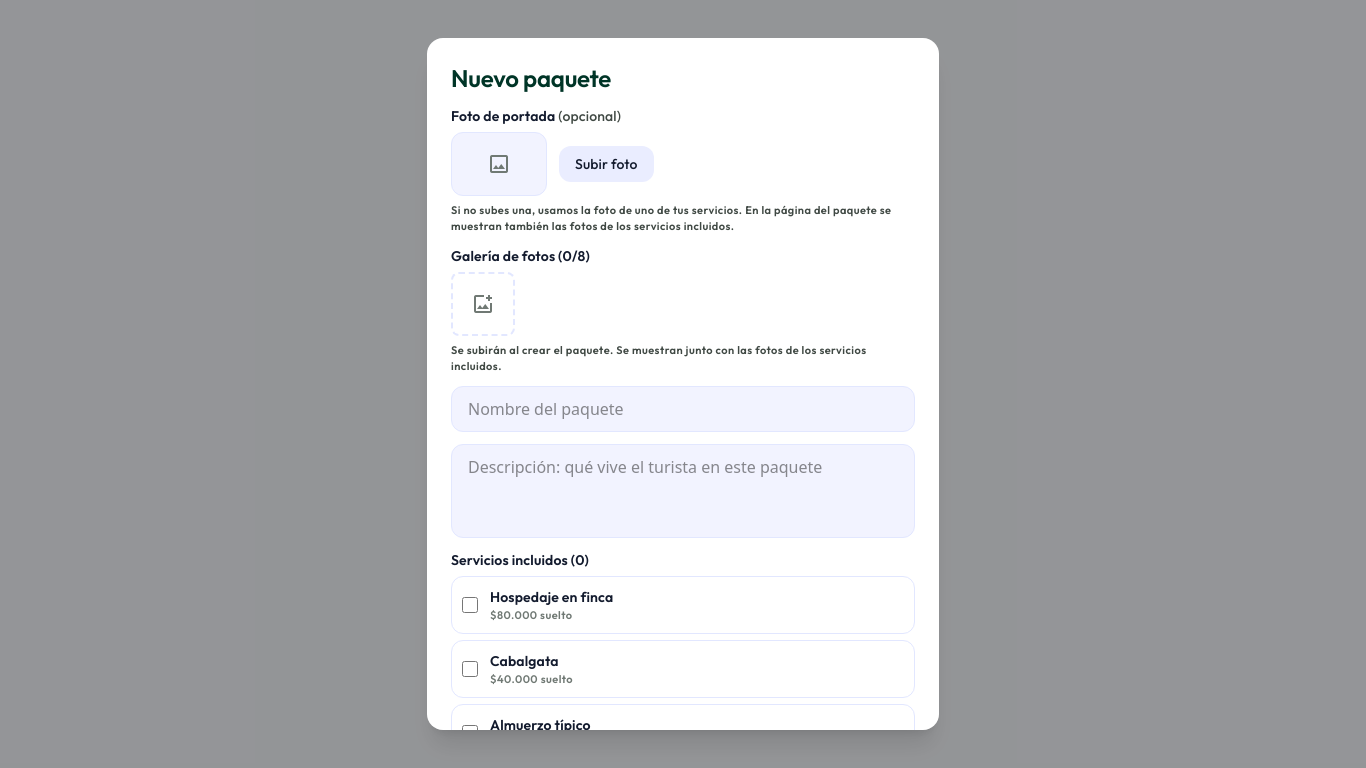
Test case: ModalPaquete › muestra el error del servidor
The image size is (1366, 768).
In the field with placeholder "Nombre del paquete": point(683, 409) [451,386,915,432], type "Paquete X"
(page scrolled)
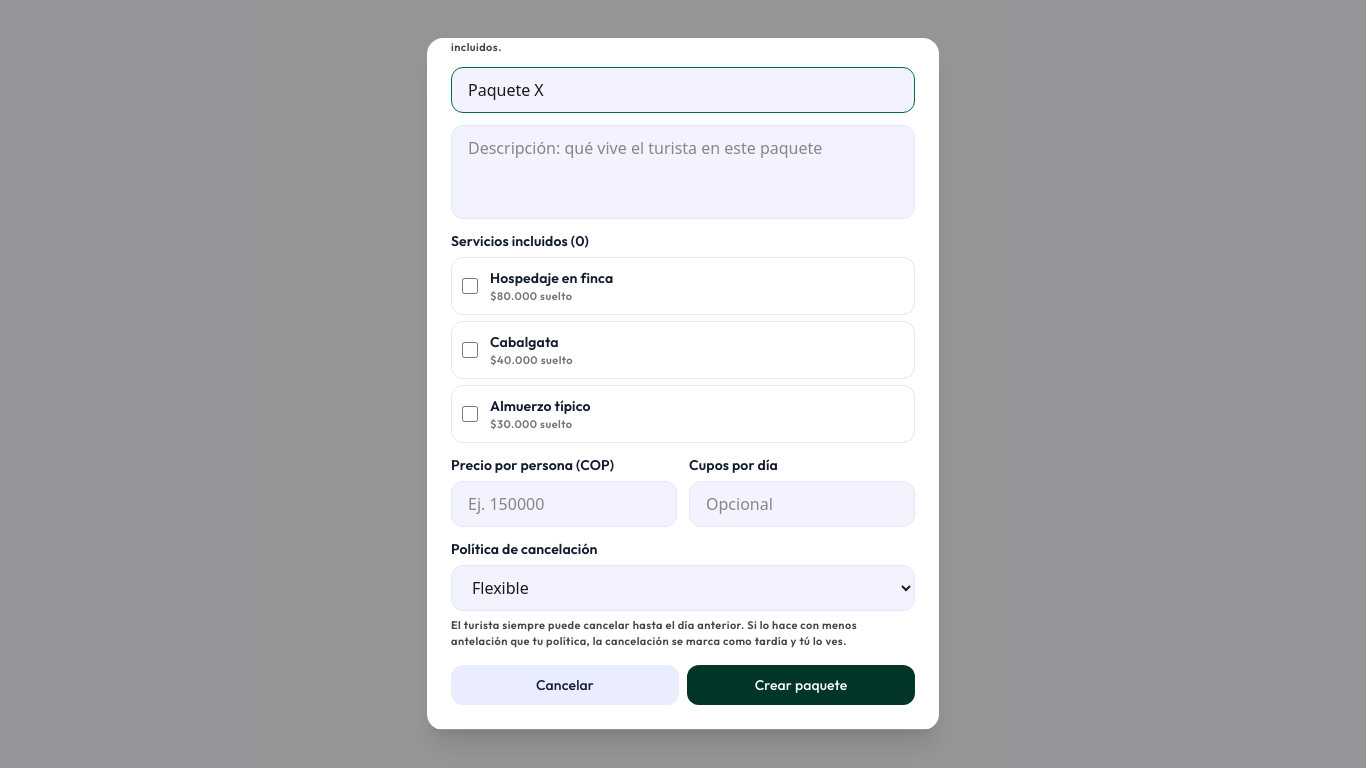
In the number field with placeholder "Ej. 150000": point(564, 504) [451,481,677,527], type "50000"
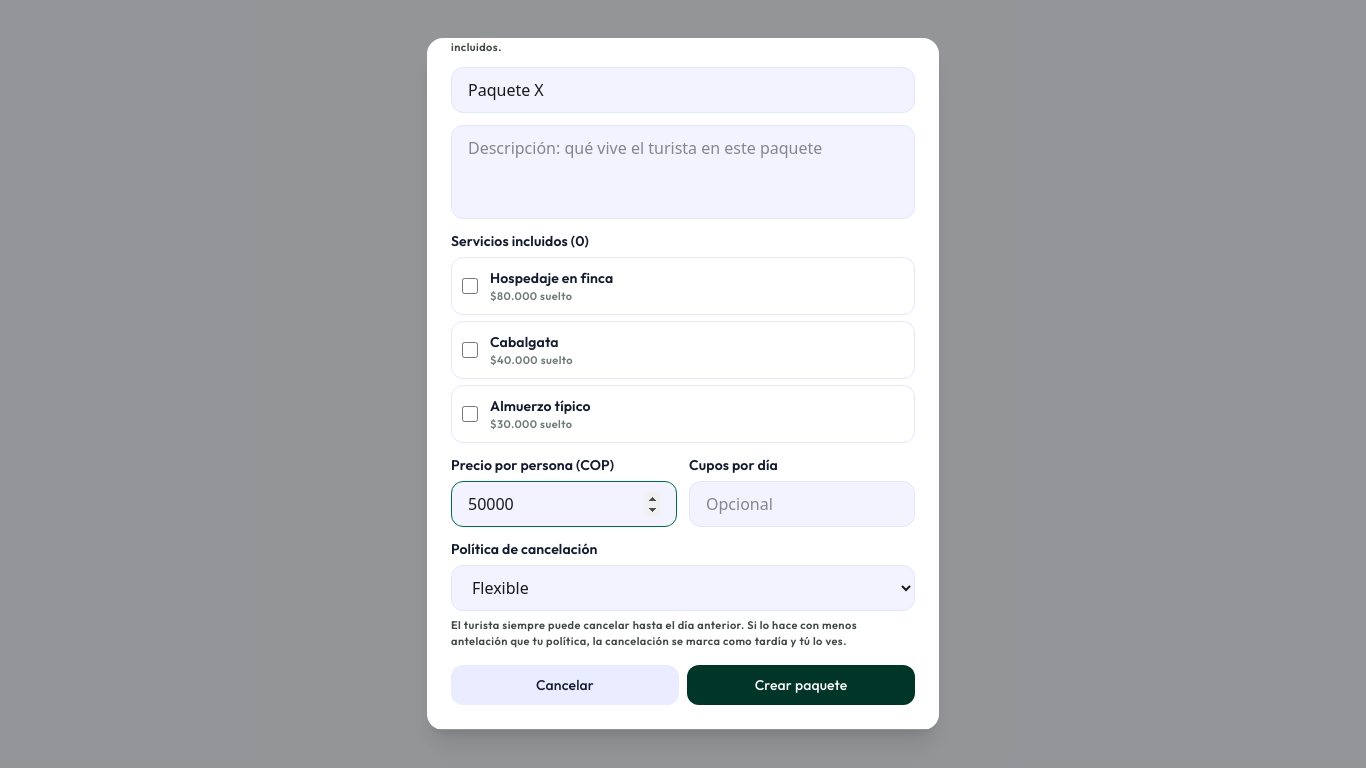
Click the checkbox labelled "Hospedaje en finca $80.000 suelto": point(470, 286) [462,278,478,294]
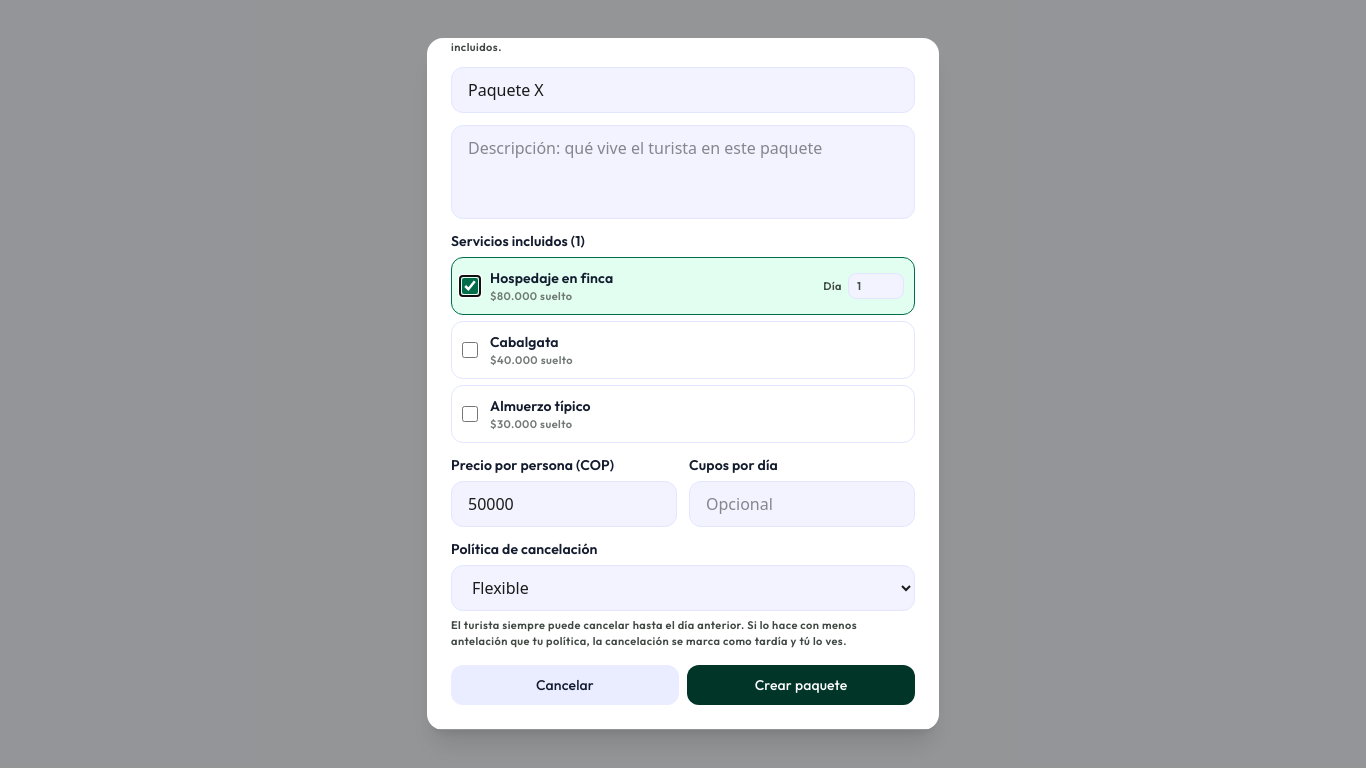
Click the checkbox labelled "Cabalgata $40.000 suelto": point(470, 350) [462,342,478,358]
(page scrolled)
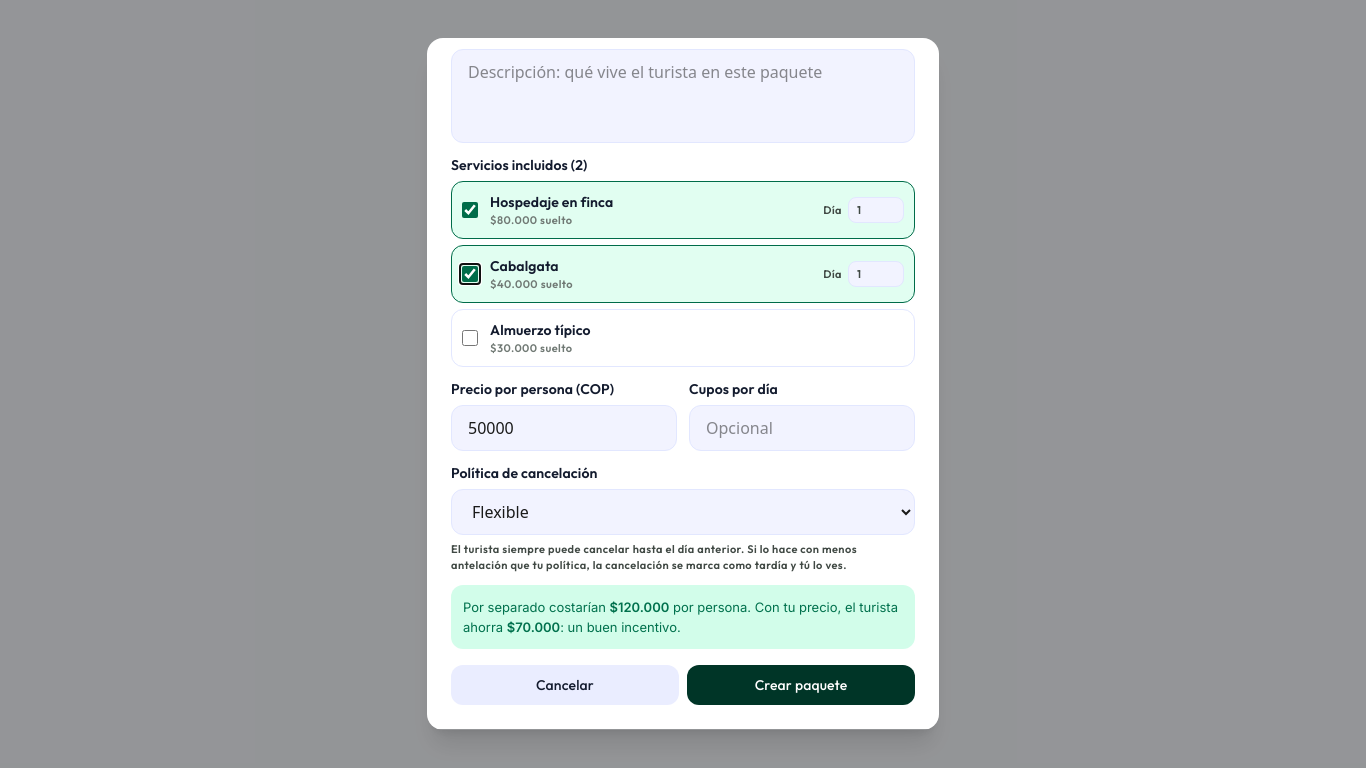
Click the button "Crear paquete": point(801, 685) [687,665,915,705]
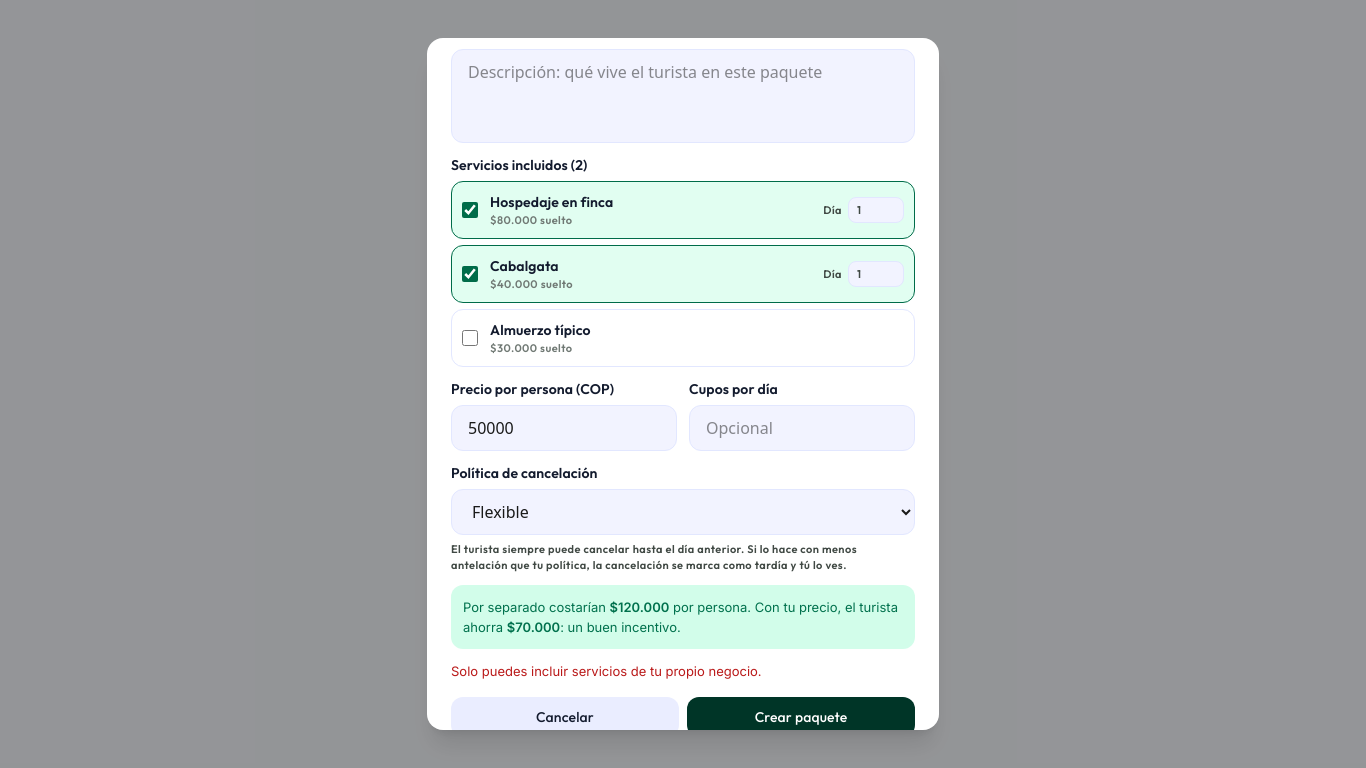
expect the text "Solo puedes incluir servicios de tu propio negocio." is shown: met, box [451,663,762,679]
